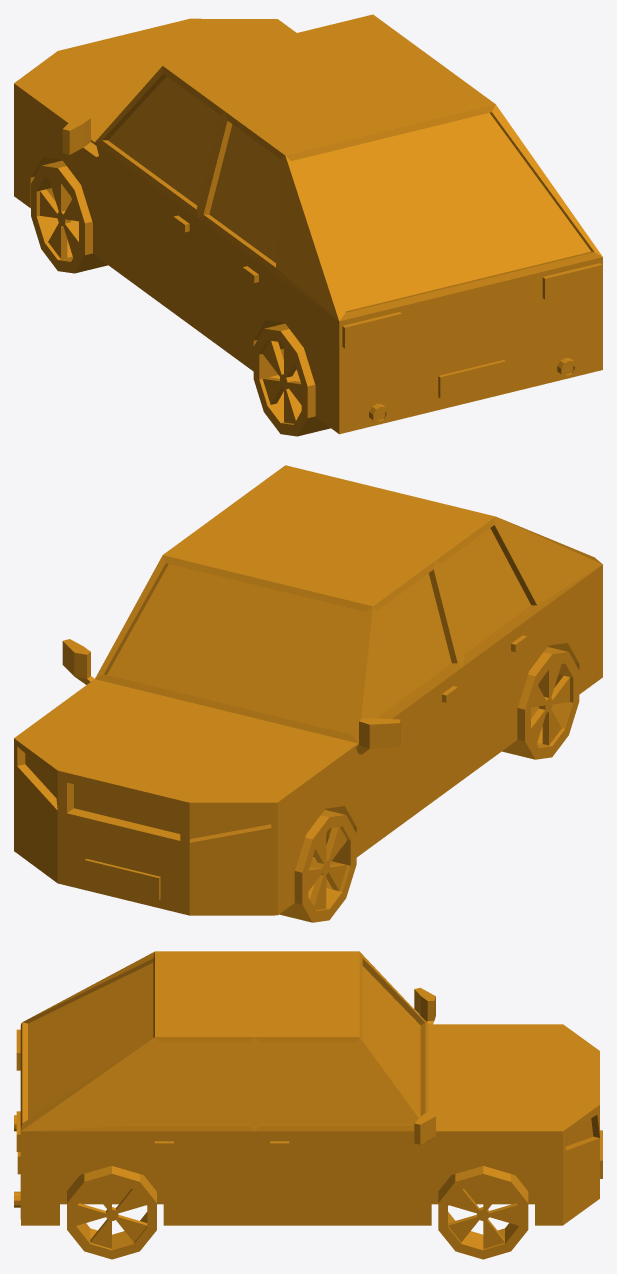
The model's file is hatch.glb.
3 views of the same model, one above another, from view 1: azimuth 30°, elevation 25°; view 2: azimuth 150°, elevation 25°; view 3: azimuth 270°, elevation 25° (orthographic). The views are drawn at different scales.
Parts seen in each view (by area): view 1: hatch; view 2: hatch; view 3: hatch.
Boxes of the visible parts, box(x1,y1,x2,y2) form: hatch: box(14, 14, 602, 436); hatch: box(14, 465, 602, 922); hatch: box(14, 951, 602, 1259).
Size of the model in its own units: 2.2 by 1.58 by 4.
